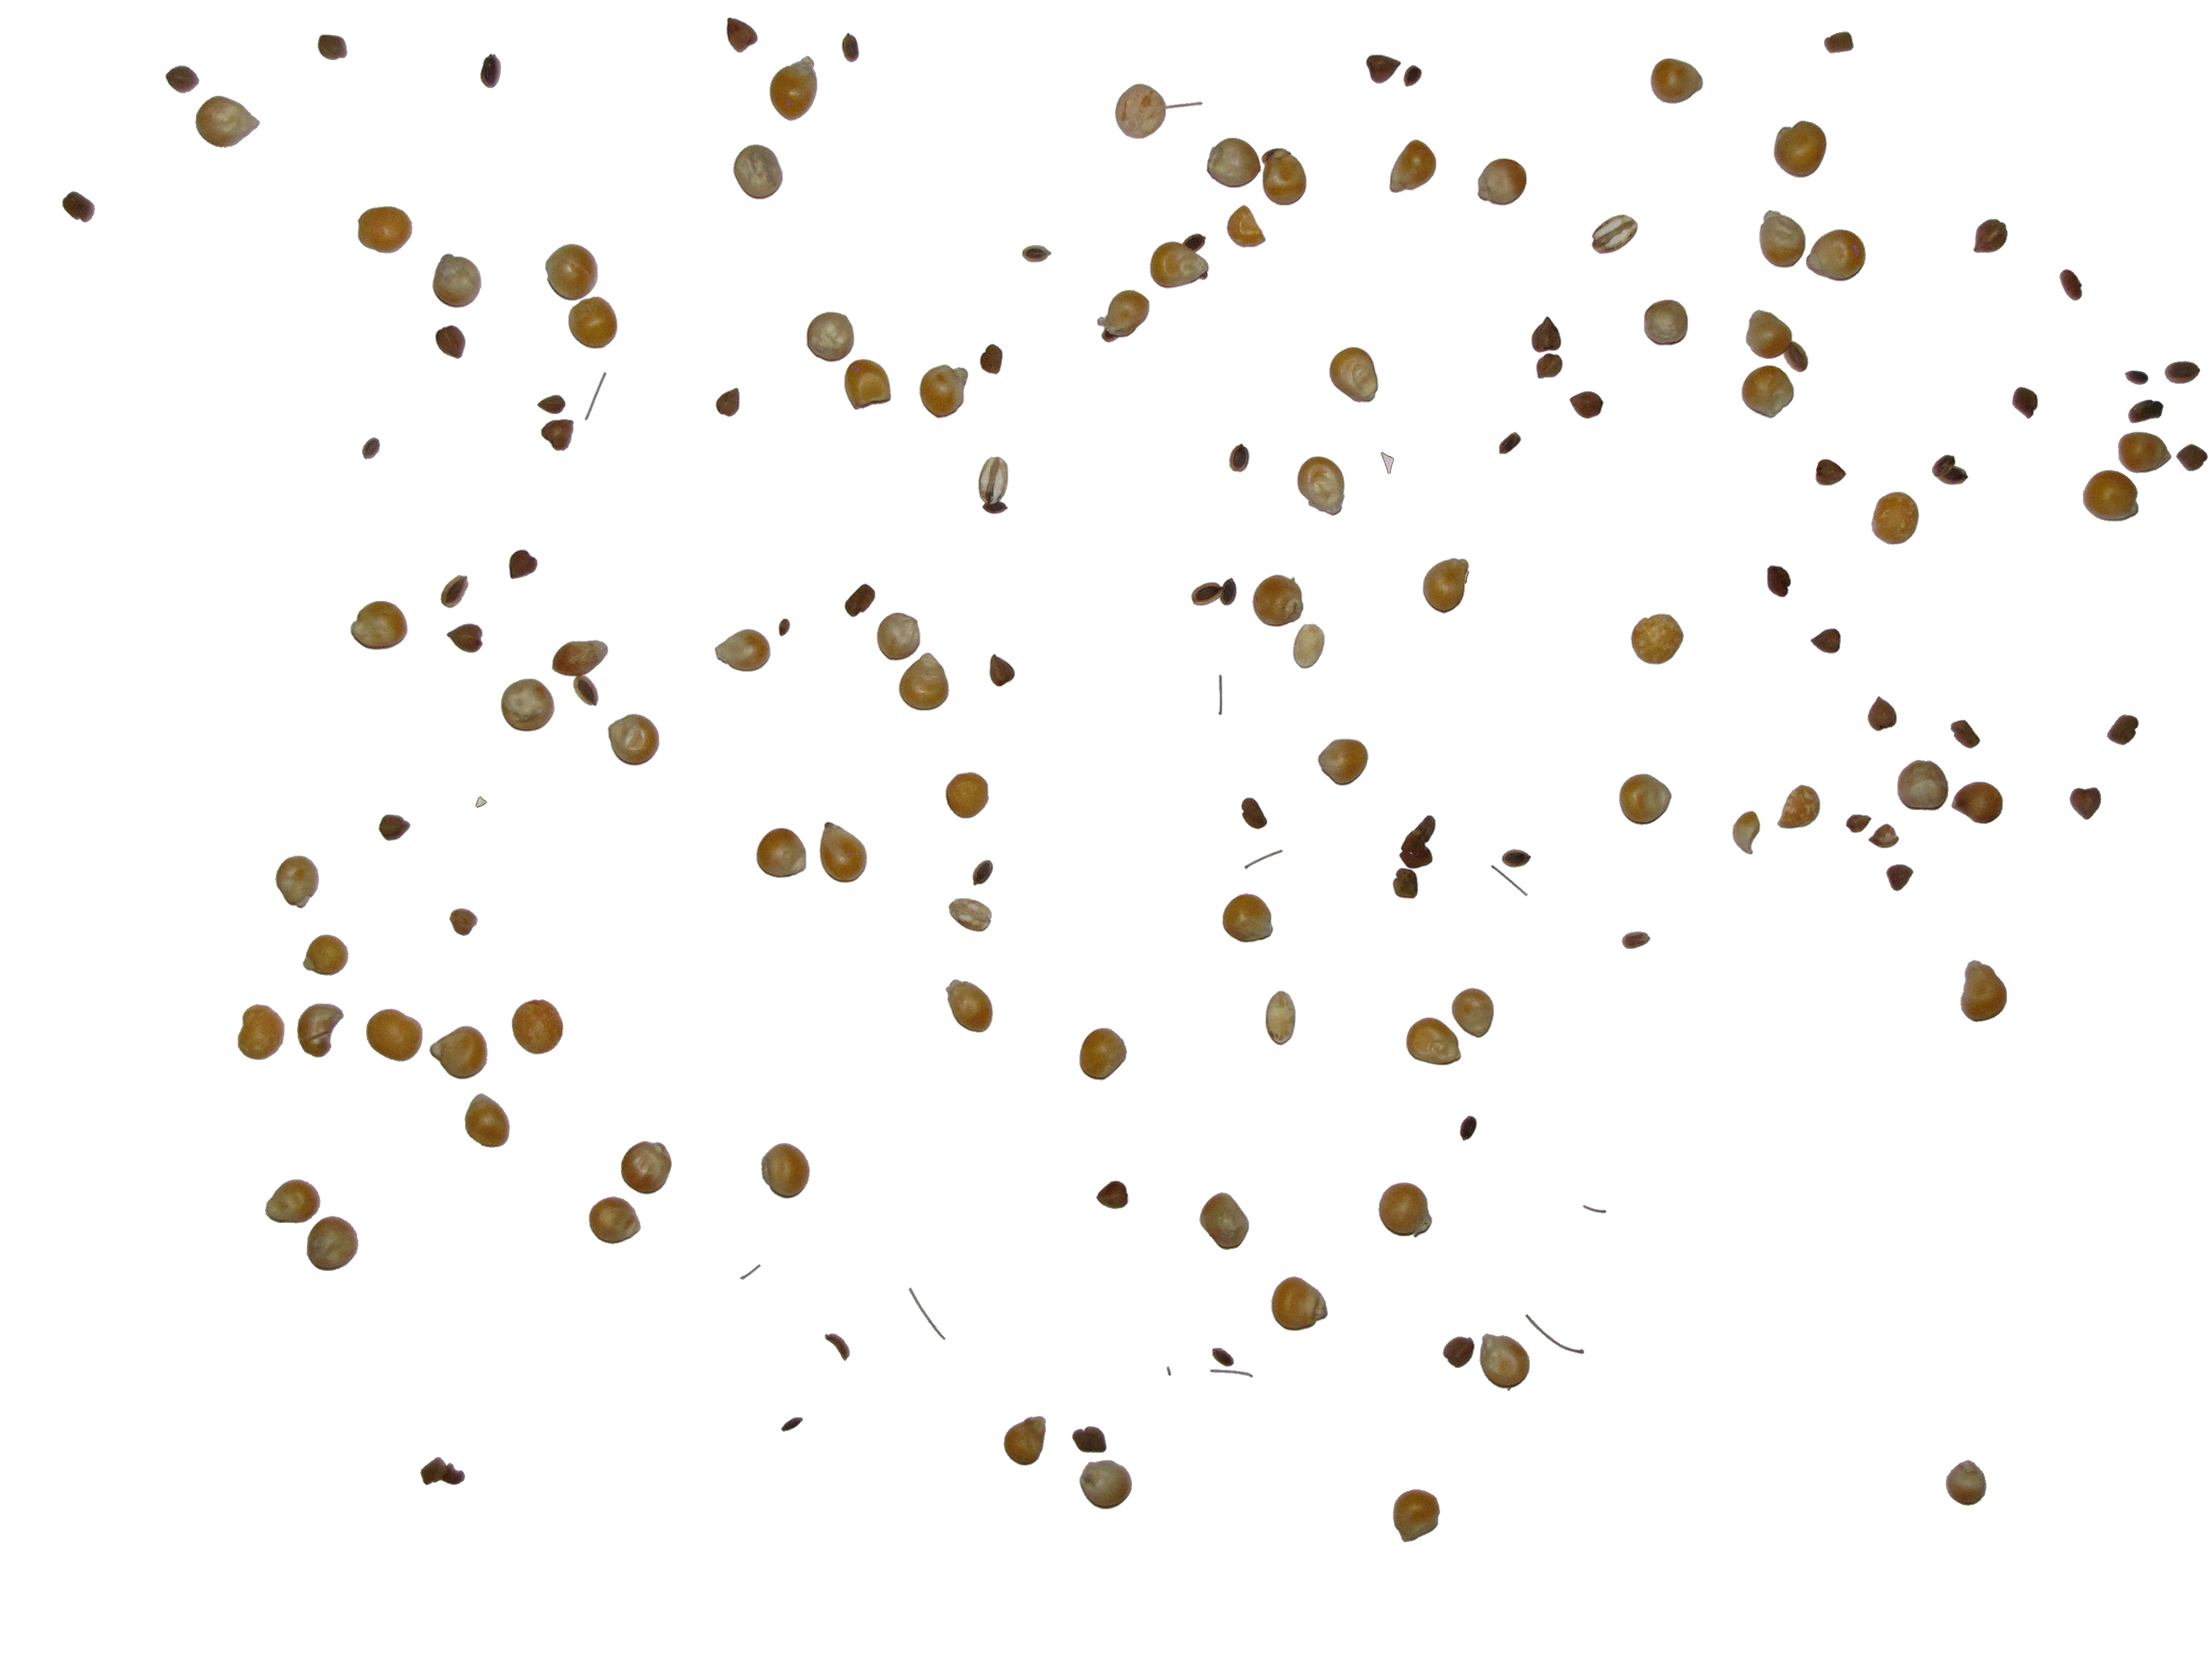buckwheat: (1399, 816, 1435, 868), (421, 1460, 465, 1486), (1973, 220, 2006, 253), (726, 17, 758, 52), (1933, 455, 1968, 484), (1531, 317, 1561, 352), (542, 420, 573, 451), (845, 584, 874, 617), (435, 326, 465, 359), (1366, 56, 1400, 84), (448, 624, 482, 652), (2107, 714, 2139, 744), (63, 192, 94, 221), (1444, 1337, 1474, 1368), (2071, 788, 2101, 819), (441, 575, 469, 608), (1869, 697, 1897, 730), (1191, 579, 1224, 606), (165, 66, 199, 92), (1569, 392, 1602, 418), (1951, 720, 1980, 748), (1242, 798, 1268, 829), (2175, 444, 2207, 471), (2012, 387, 2038, 418), (1097, 1182, 1129, 1208), (989, 653, 1014, 687), (2128, 401, 2163, 423), (2165, 361, 2200, 383), (509, 551, 536, 579), (1817, 458, 1846, 484), (1393, 868, 1418, 899), (449, 910, 477, 936), (1811, 629, 1841, 653), (380, 816, 409, 840), (1768, 566, 1791, 598), (481, 54, 502, 87), (1886, 864, 1912, 890), (826, 1333, 850, 1361), (319, 35, 347, 59), (1869, 824, 1898, 847), (1536, 354, 1562, 378), (716, 389, 738, 416), (2060, 270, 2081, 300), (981, 345, 1001, 375), (1825, 31, 1853, 52), (1501, 849, 1531, 868), (1230, 444, 1249, 472), (975, 861, 993, 887), (538, 396, 564, 413), (1500, 430, 1521, 451), (843, 33, 859, 61), (1022, 246, 1050, 261), (1846, 816, 1871, 833), (1460, 1117, 1477, 1140), (1212, 1349, 1233, 1366), (362, 437, 380, 458), (1623, 934, 1649, 948), (1404, 66, 1421, 85), (2125, 371, 2148, 385)
dill: (1526, 1314, 1583, 1354), (909, 1288, 946, 1340), (1491, 866, 1527, 896), (585, 373, 606, 420), (1073, 1427, 1106, 1452), (1245, 850, 1282, 870), (740, 1265, 761, 1279), (1211, 1370, 1252, 1377), (1381, 453, 1393, 474), (782, 1419, 803, 1431), (779, 619, 791, 636), (1583, 1206, 1606, 1213), (1219, 674, 1223, 714), (475, 796, 486, 807), (1167, 1366, 1170, 1375)
mais: (195, 96, 260, 148), (770, 56, 817, 120), (430, 1026, 488, 1079), (1806, 230, 1865, 281), (1271, 1277, 1327, 1330), (545, 244, 597, 300), (1775, 122, 1827, 178), (899, 653, 949, 711), (1115, 84, 1167, 138), (1379, 1183, 1432, 1237), (368, 1009, 421, 1061), (2083, 471, 2139, 521), (1200, 1192, 1249, 1249), (1480, 1333, 1529, 1391), (1298, 457, 1345, 516), (1961, 960, 2006, 1021), (1742, 366, 1794, 418), (502, 680, 554, 732), (1207, 138, 1261, 188), (307, 1216, 357, 1270), (512, 1000, 563, 1054), (761, 1143, 810, 1199), (1329, 347, 1378, 403), (352, 601, 408, 650), (1150, 239, 1205, 288), (820, 823, 866, 882), (1630, 613, 1683, 664), (920, 364, 968, 418), (733, 145, 782, 199), (1261, 148, 1306, 206), (1620, 774, 1670, 824), (608, 714, 658, 765), (1252, 575, 1303, 626), (1898, 760, 1949, 810), (1080, 1460, 1132, 1509), (622, 1141, 671, 1194), (1407, 1018, 1461, 1065), (1423, 558, 1468, 613), (1759, 211, 1804, 267), (1223, 894, 1273, 943), (756, 828, 806, 877), (946, 979, 993, 1032), (589, 1197, 641, 1244), (1080, 1028, 1127, 1080), (570, 296, 617, 349), (434, 254, 481, 307), (1390, 139, 1435, 193), (239, 1006, 284, 1060), (359, 207, 413, 253), (265, 1180, 320, 1223), (1872, 493, 1919, 544), (298, 1004, 343, 1056), (1393, 1490, 1439, 1542), (714, 629, 770, 671), (1318, 739, 1367, 786), (1477, 159, 1526, 206), (806, 312, 853, 361), (1747, 310, 1794, 359), (845, 359, 890, 410), (275, 856, 319, 908), (465, 1094, 509, 1147), (1651, 59, 1703, 103), (552, 640, 604, 681), (1104, 291, 1148, 340), (1952, 782, 2003, 824), (2118, 432, 2170, 472), (1644, 300, 1688, 345), (878, 613, 920, 660), (1005, 1417, 1045, 1466), (1453, 988, 1493, 1037), (946, 772, 988, 817), (303, 936, 348, 976), (1778, 786, 1820, 828), (1947, 1460, 1986, 1506), (1228, 206, 1266, 247), (1733, 807, 1759, 850)
other: (1266, 992, 1296, 1046), (982, 457, 1008, 514), (1592, 220, 1637, 253), (949, 899, 991, 931), (1294, 624, 1324, 667)
